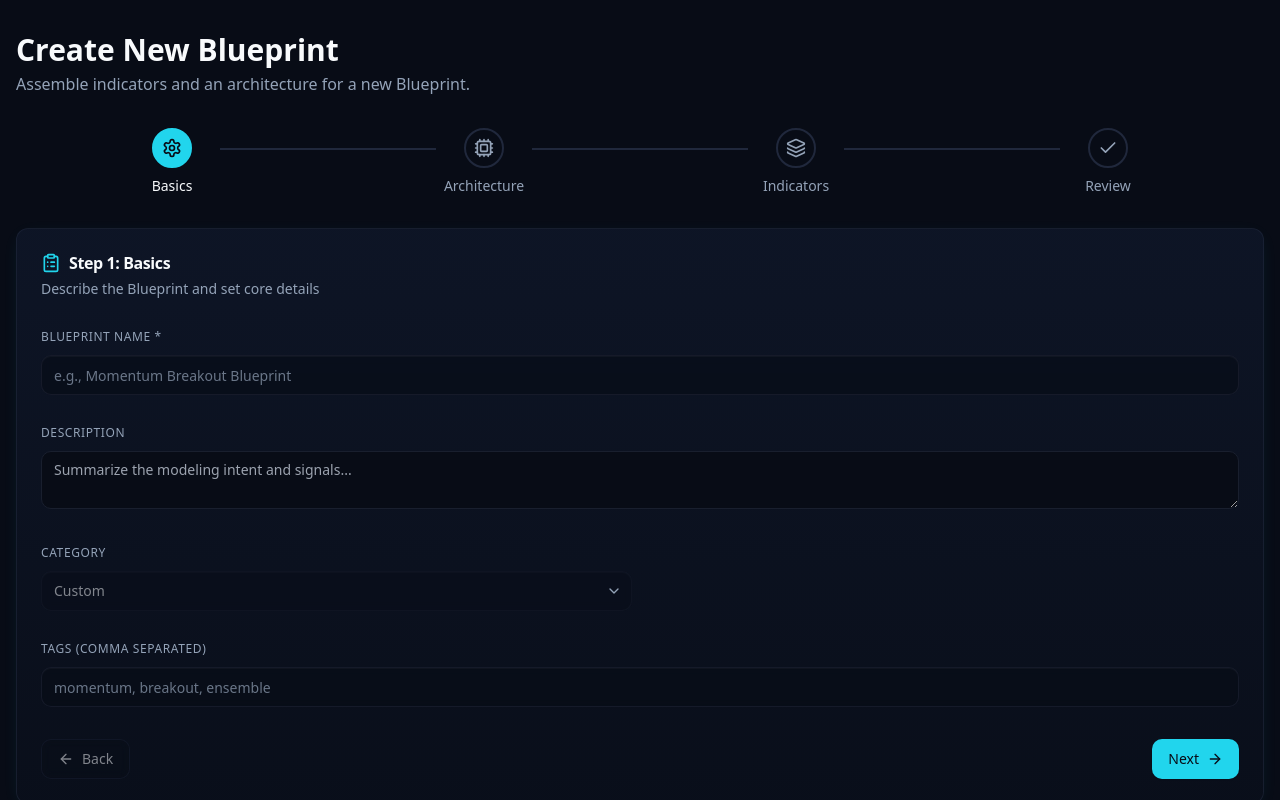
BlueprintWizardView › supports step navigation
Expected: the heading "Step 1: Basics" is shown, [41, 252, 170, 274]
Type "Nav BP" into the field labelled "Blueprint Name *". click: [640, 375]
box: [41, 355, 1239, 395]
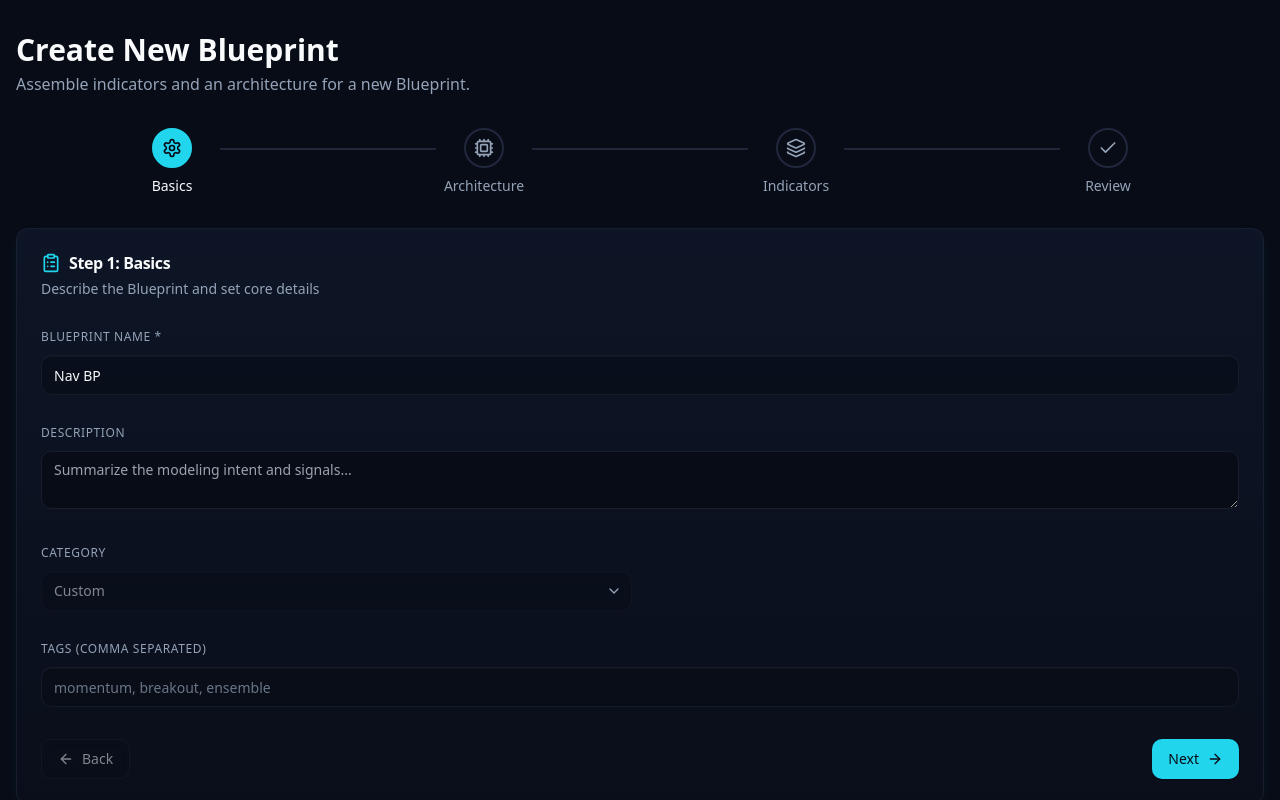
Click the button "Next". click: [1196, 759]
box: [1152, 739, 1239, 779]
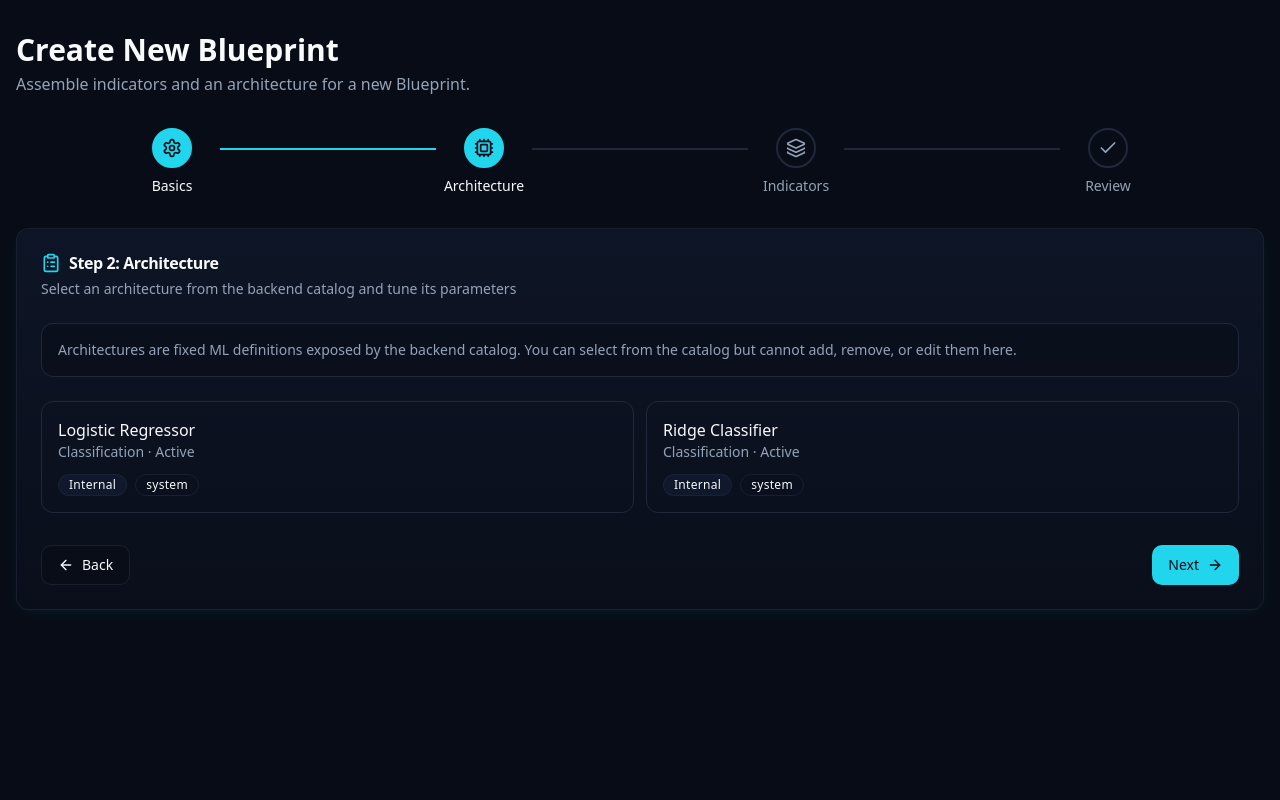
Expected: the heading "Step 2: Architecture" is shown, [41, 252, 218, 274]
Click the button "Back". click: [86, 565]
box: [41, 545, 130, 585]
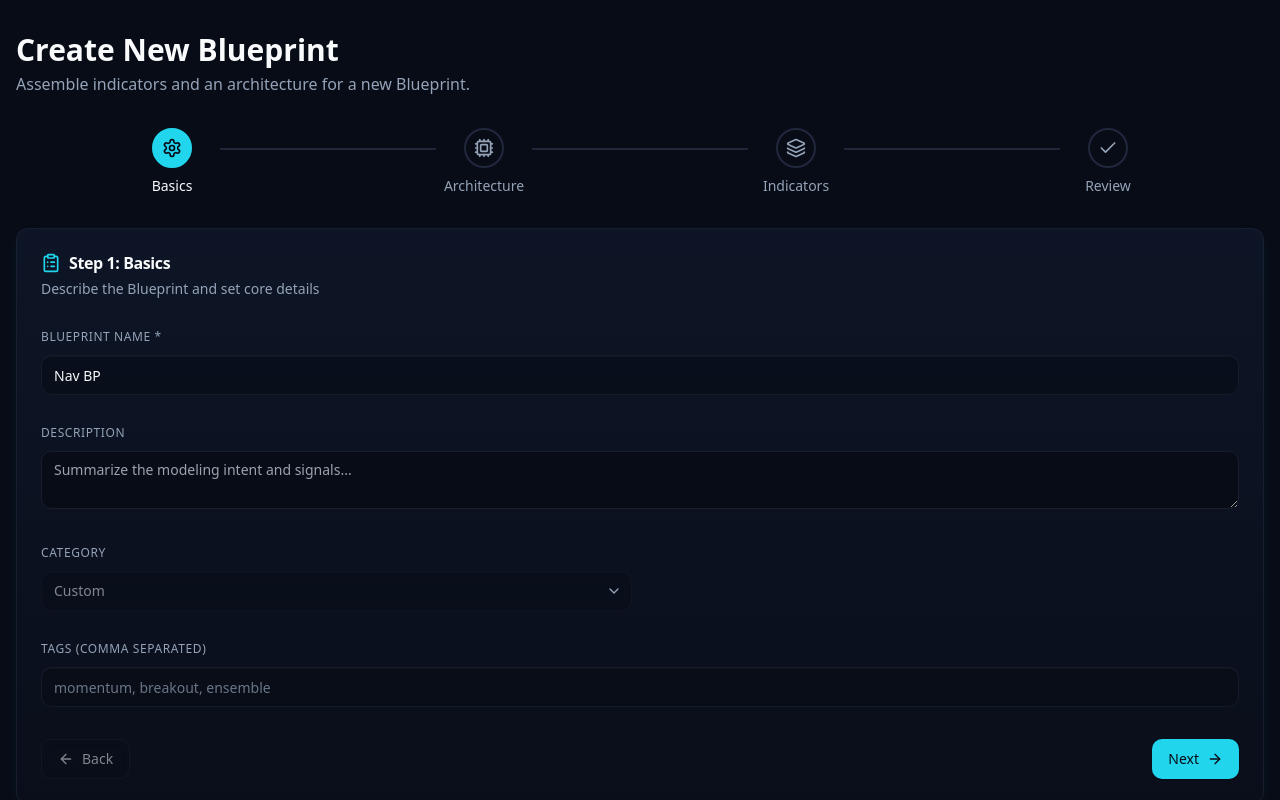
Expected: the heading "Step 1: Basics" is shown, [41, 252, 170, 274]
